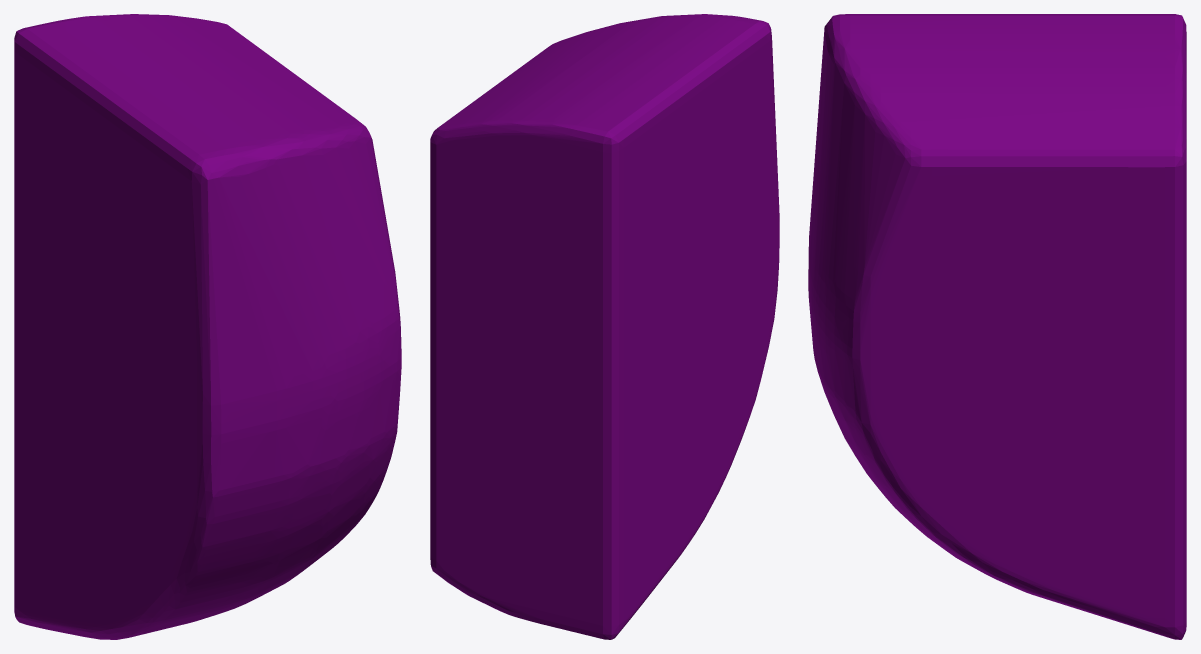
Rendered from right_f_distal_pst_part_11.obj.
The picture shows the model from 3 angles, left to right: view 1: azimuth 30°, elevation 25°; view 2: azimuth 150°, elevation 25°; view 3: azimuth 270°, elevation 25°; orthographic projection. The views are drawn at different scales.
Bounding box in the file's own units: 4.49 × 11.51 × 7.03.
